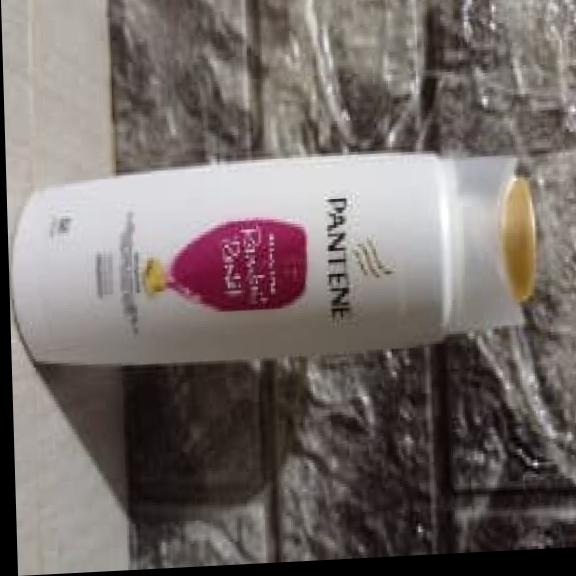Plastik: (7, 137, 537, 439)
